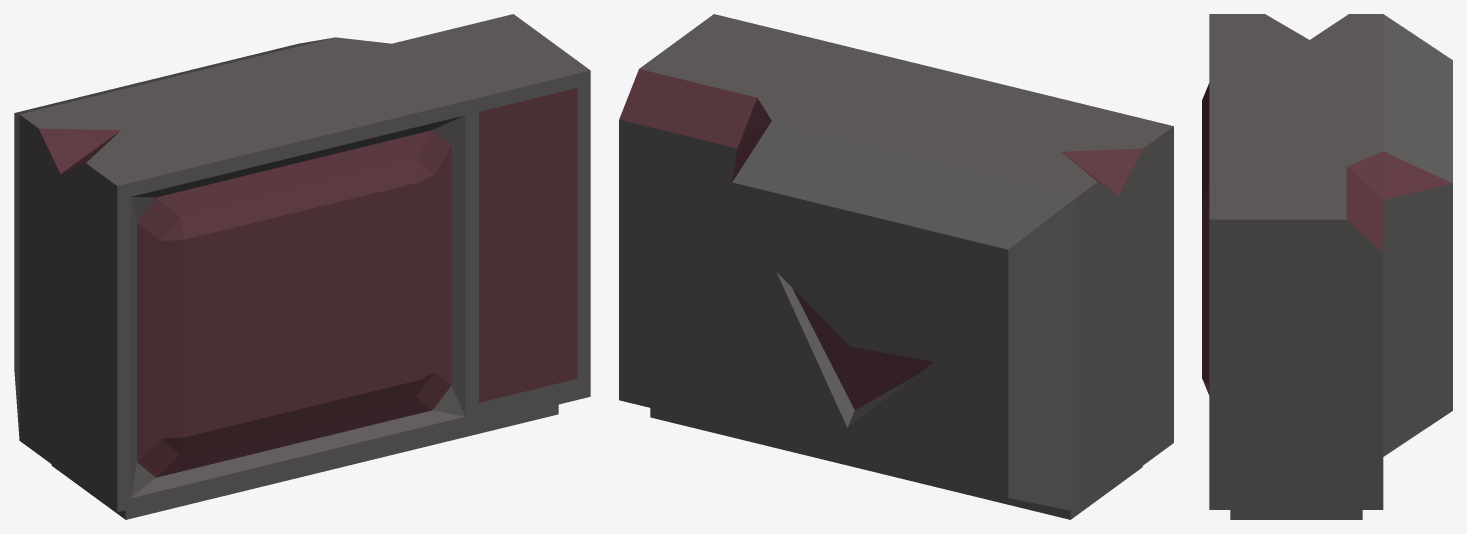
File: television-apocalypse.fbx
3 views of the same model, side by side, from view 1: azimuth 30°, elevation 25°; view 2: azimuth 150°, elevation 25°; view 3: azimuth 270°, elevation 25° (orthographic). The views are drawn at different scales.
Visible parts, largest first — view 1: television-apocalypse; view 2: television-apocalypse; view 3: television-apocalypse.
Part boxes in pixels (box(x1,y1,x2,y2)): television-apocalypse: box(14, 14, 590, 519); television-apocalypse: box(619, 14, 1173, 519); television-apocalypse: box(1202, 14, 1452, 519).
Size of the model in its own units: 0.7 by 0.4909 by 0.3608.
